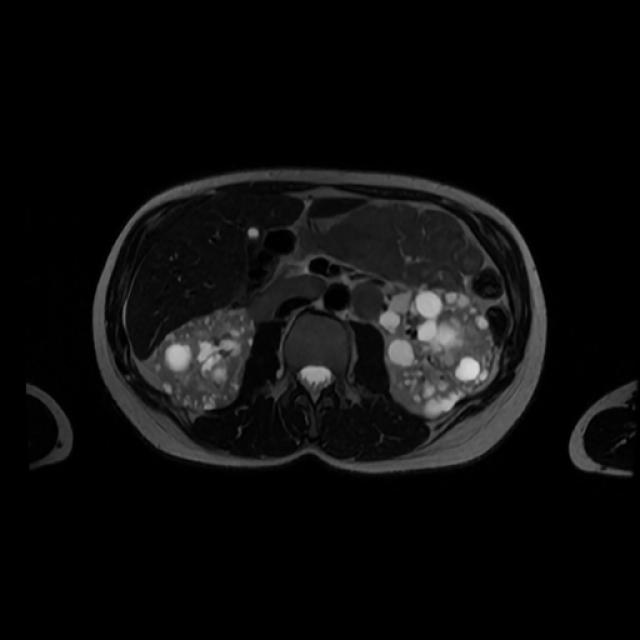sag: (152, 307, 258, 410)
sol: (380, 288, 496, 417)
